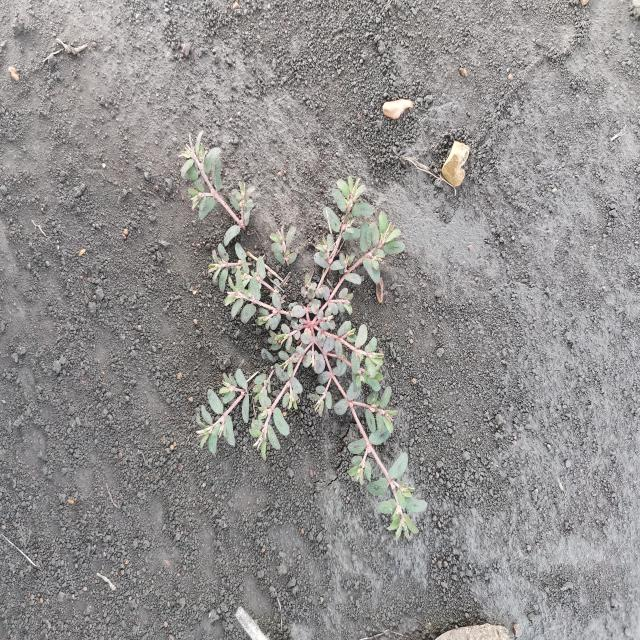SpottedSpurge: (177, 126, 429, 544)
